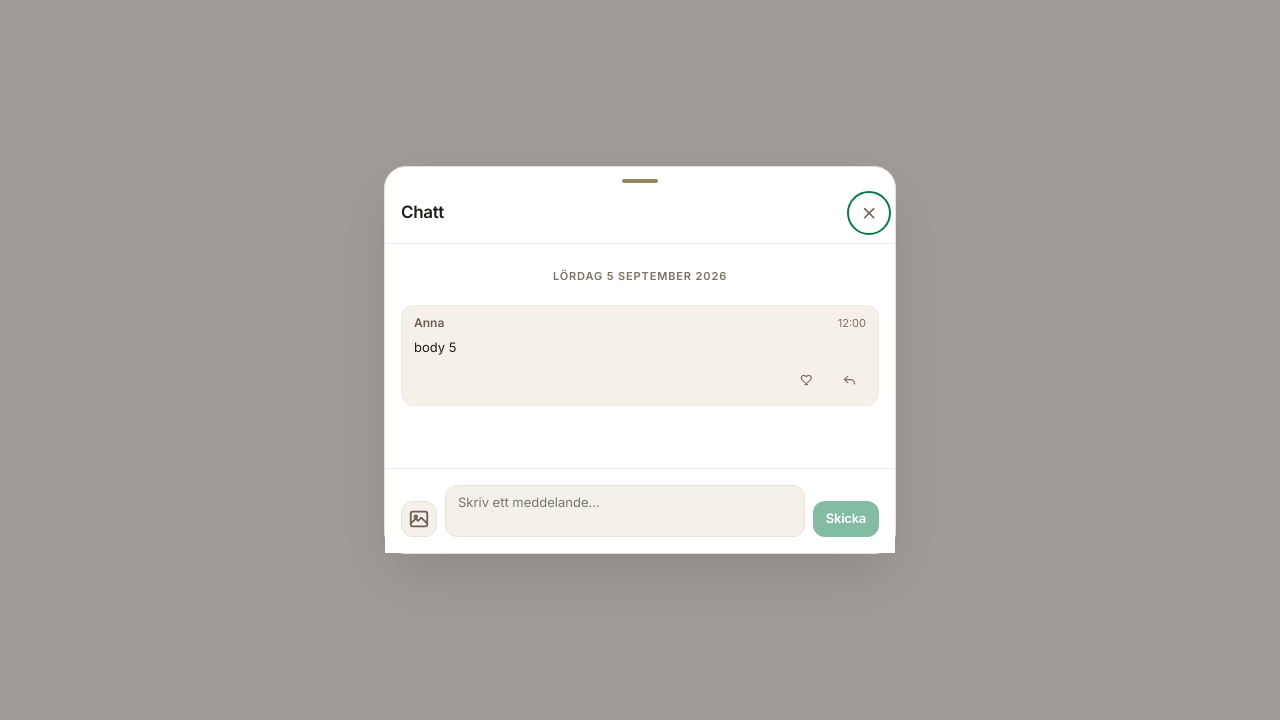
it: ChatPanel — reply composer mode + quoted replies (Task G) › the ✕ cancels reply mode but keeps the typed draft
In the text box: (625, 511) top-left (445, 485), bottom-right (805, 537), type "mitt svar"
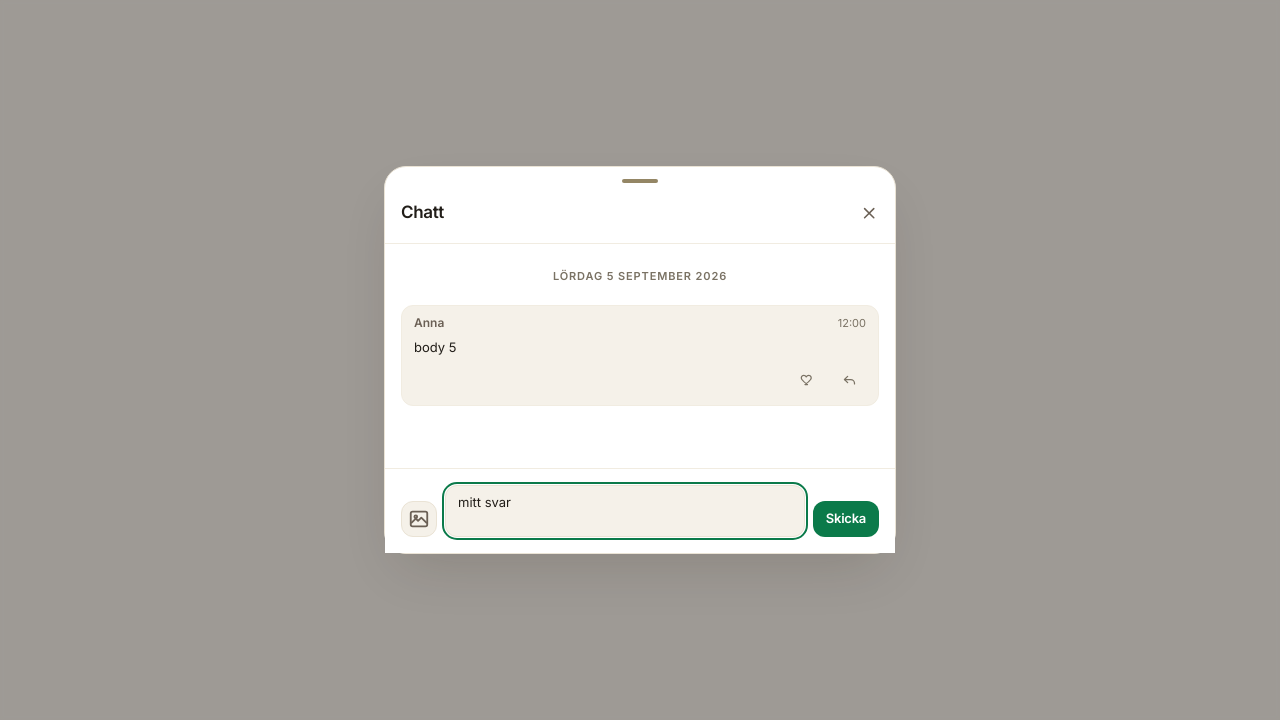
Click the button named "Svara på Annas meddelande": (849, 380) top-left (832, 363), bottom-right (866, 397)
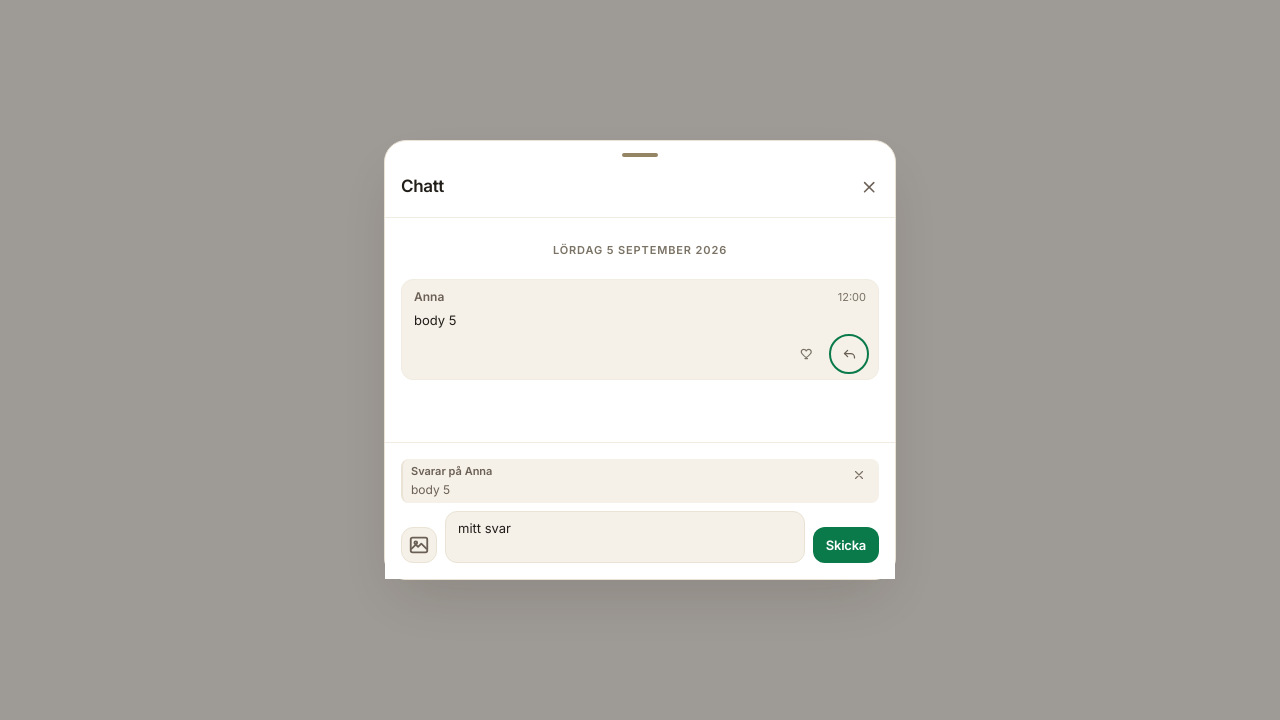
Expected: the text "Svarar på Anna" is shown, top-left (411, 464), bottom-right (492, 478)
Click the button named "Avbryt svar": (859, 475) top-left (843, 459), bottom-right (875, 491)
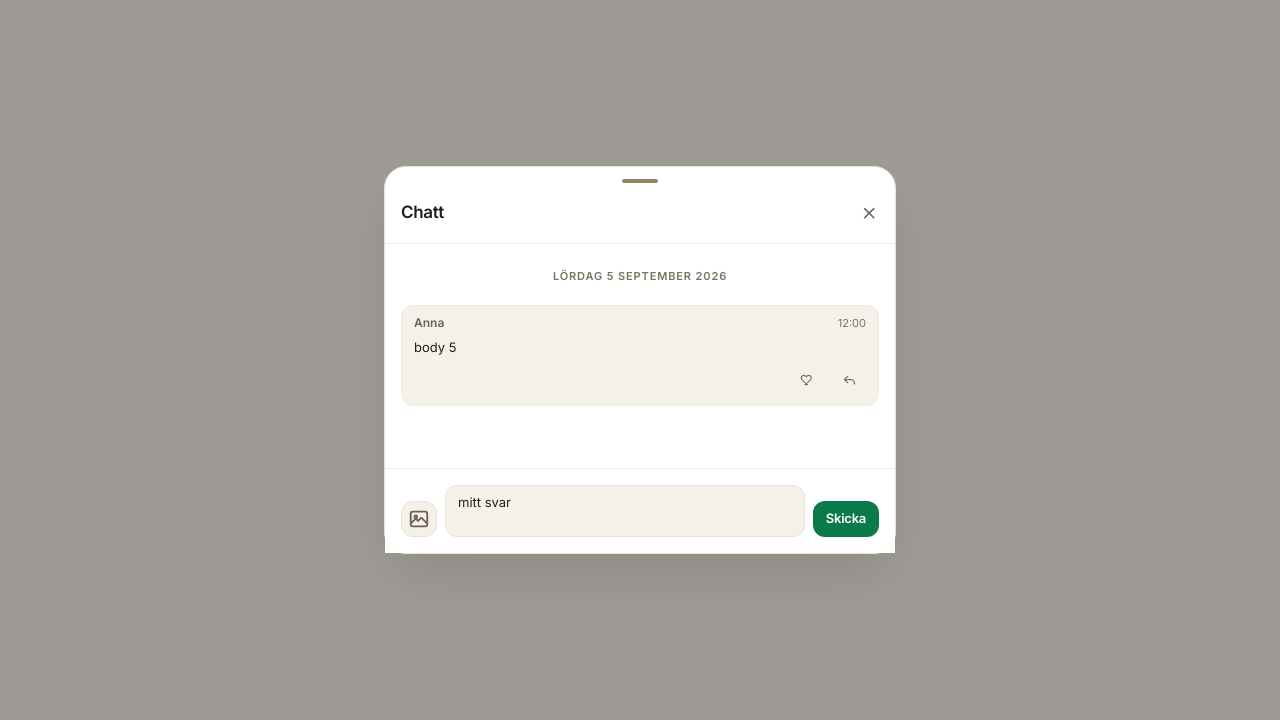
Expected: the text "Svarar på Anna" is gone
